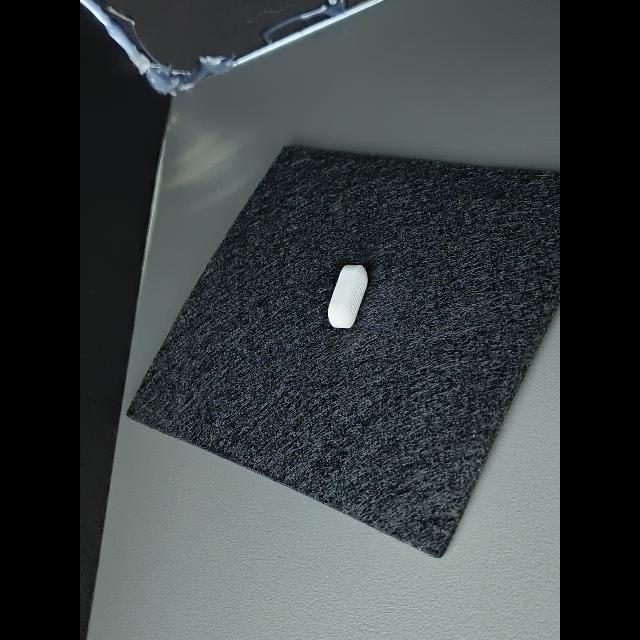Intact Pill: (328, 265, 368, 328)
